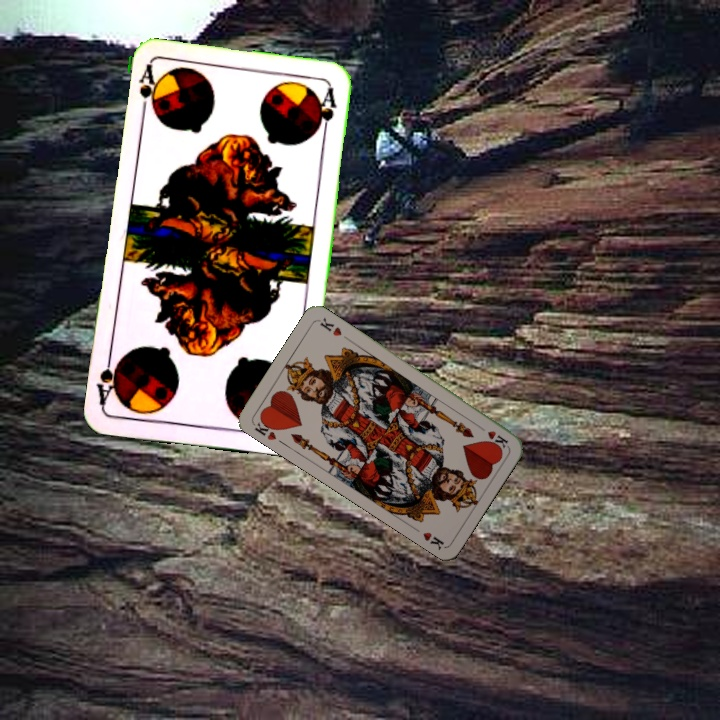HK: (474, 421, 511, 451), (250, 414, 281, 443)
SA: (134, 62, 159, 121)
